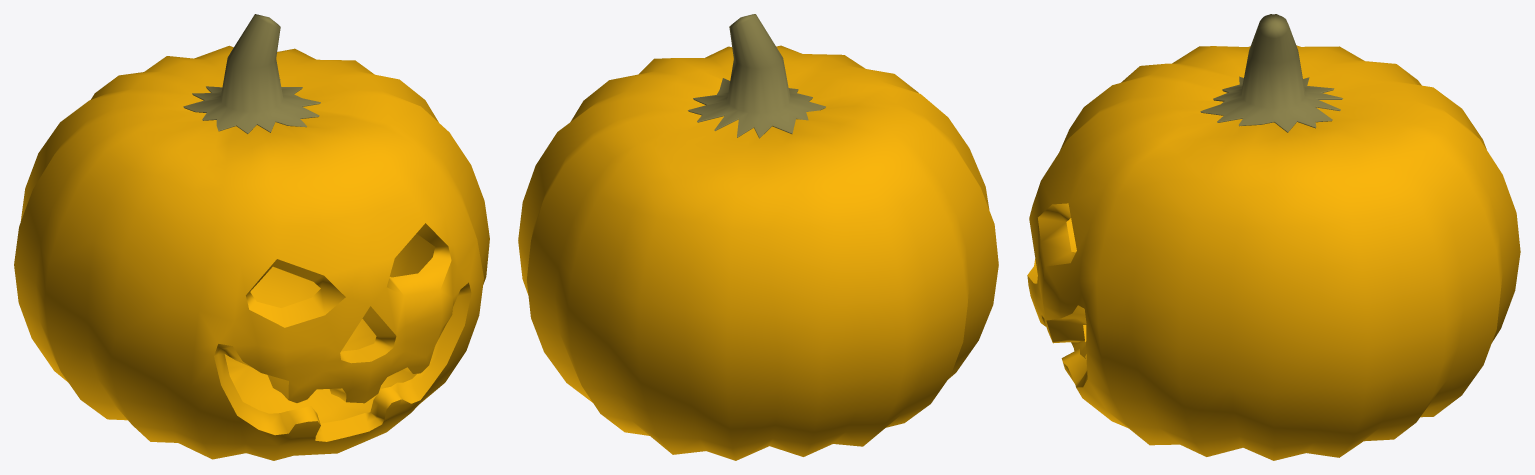
File: pumpkin.fbx
The picture shows the model from 3 angles, left to right: view 1: azimuth 30°, elevation 25°; view 2: azimuth 150°, elevation 25°; view 3: azimuth 270°, elevation 25°; orthographic projection. The views are drawn at different scales.
Visible parts, largest first — view 1: Pumpkin_model; view 2: Pumpkin_model; view 3: Pumpkin_model.
Part boxes in pixels (x1,y1,x2,y2): Pumpkin_model: [14, 14, 489, 460]; Pumpkin_model: [518, 14, 998, 460]; Pumpkin_model: [1027, 14, 1520, 460].
Bounding box in the file's own units: 11.49 × 10.11 × 11.5.
